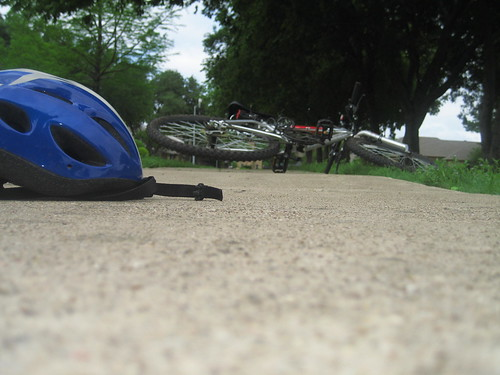helmet: (0, 58, 149, 208)
